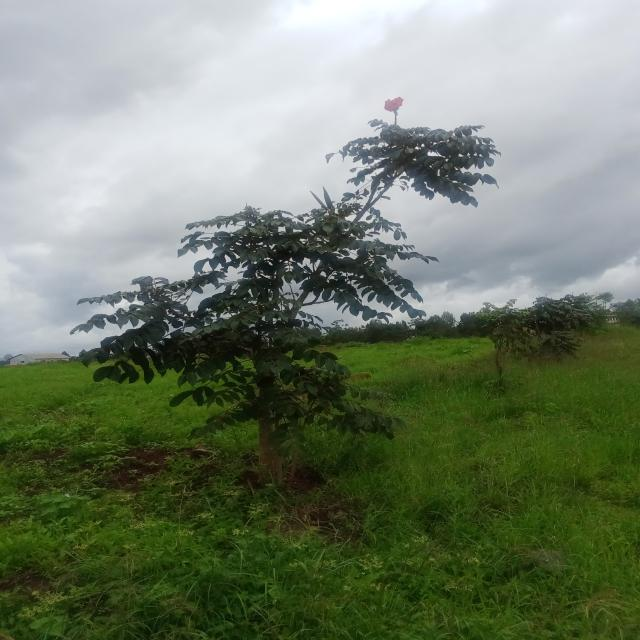Polyscias Kikuyensis: (62, 95, 510, 490)
